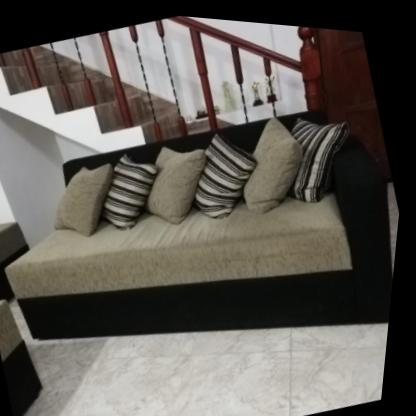Sofa: (0, 63, 411, 416)
